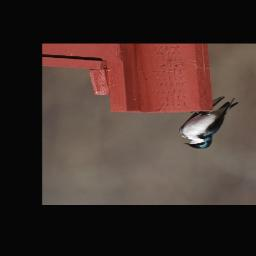Swallow: (178, 97, 239, 150)
